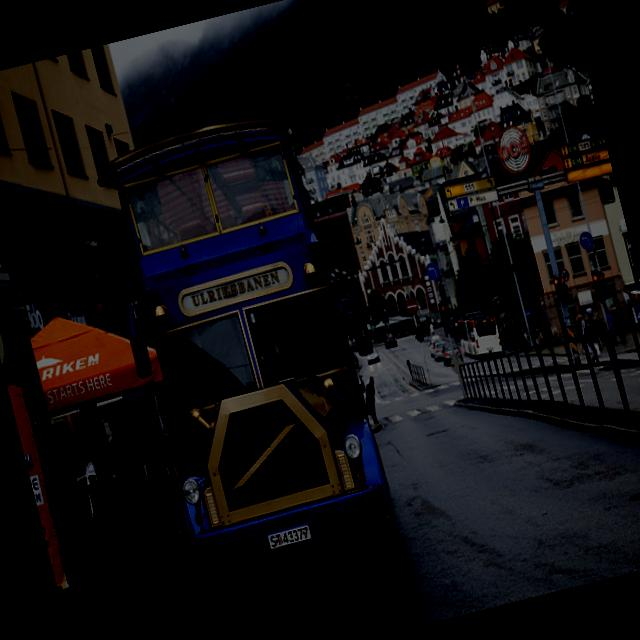Vehicle: (96, 102, 407, 600), (453, 306, 504, 362), (438, 341, 464, 366), (363, 342, 381, 364), (430, 340, 449, 360), (427, 338, 445, 357), (382, 331, 398, 349), (428, 334, 441, 344)
